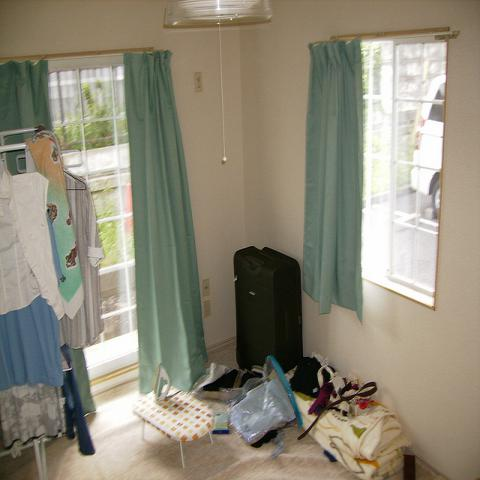car: (410, 73, 449, 227)
